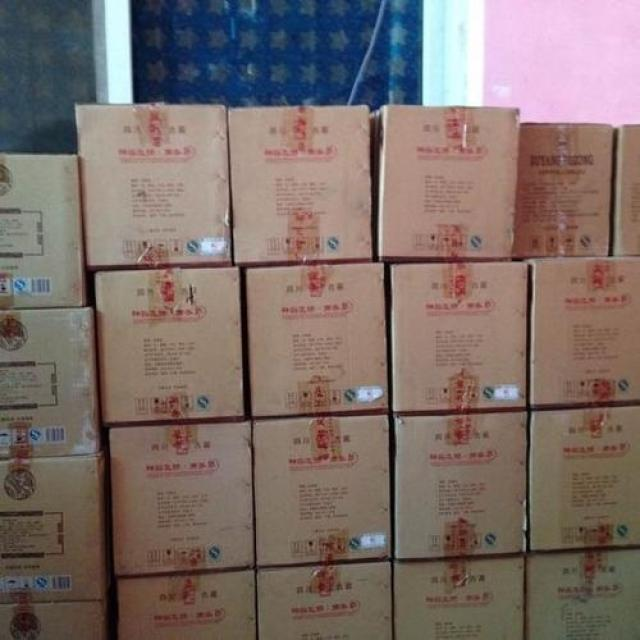Carton: (396, 265, 637, 639), (88, 268, 246, 567), (378, 105, 611, 257), (74, 106, 230, 265), (225, 106, 371, 262), (116, 563, 396, 639), (243, 264, 384, 410), (252, 412, 388, 563), (532, 260, 639, 404), (529, 407, 639, 543), (0, 311, 91, 460), (0, 460, 96, 598), (0, 156, 81, 310)
